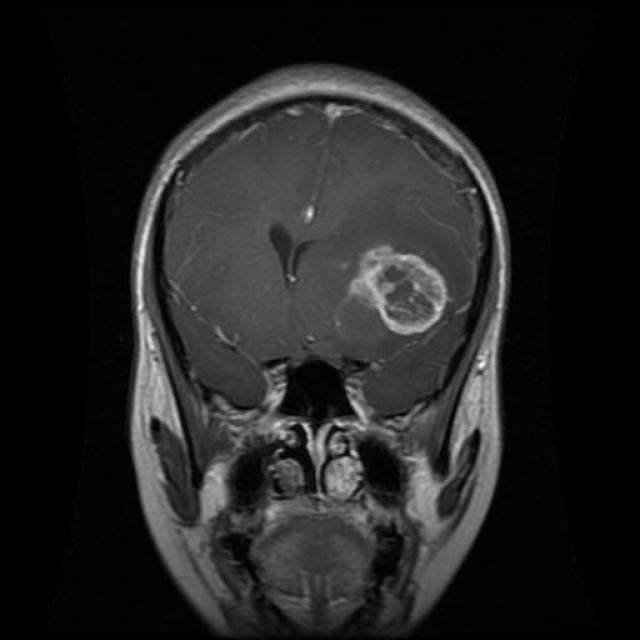glioma: (356, 241, 446, 341), (255, 220, 325, 298)
